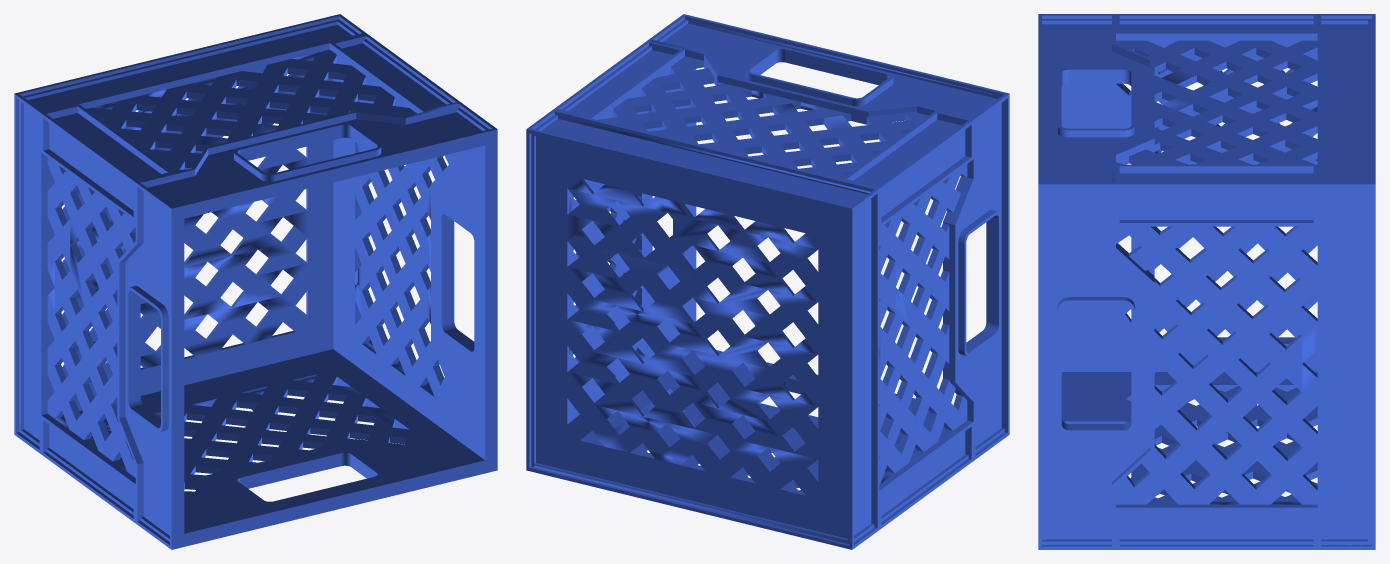
File: Crate_4.obj
3 renders of one model, left to right at view 1: azimuth 30°, elevation 25°; view 2: azimuth 150°, elevation 25°; view 3: azimuth 270°, elevation 25°, orthographic. The views are drawn at different scales.
Visible parts, largest first — view 1: Crate_4__118791__temp_Crate_4__118791_.004; view 2: Crate_4__118791__temp_Crate_4__118791_.004; view 3: Crate_4__118791__temp_Crate_4__118791_.004.
Boxes of the visible parts, <box> form: Crate_4__118791__temp_Crate_4__118791_.004: <box>14,14,497,549</box>; Crate_4__118791__temp_Crate_4__118791_.004: <box>526,14,1009,549</box>; Crate_4__118791__temp_Crate_4__118791_.004: <box>1038,14,1375,549</box>.
Size of the model in its own units: 0.3334 by 0.3334 by 0.2789.
